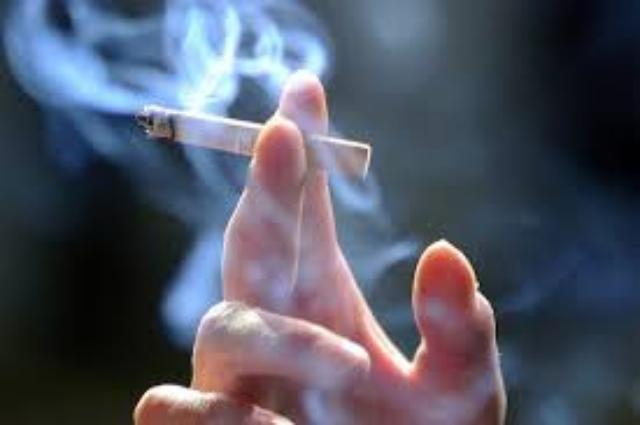Cigarette: (136, 103, 372, 179)
